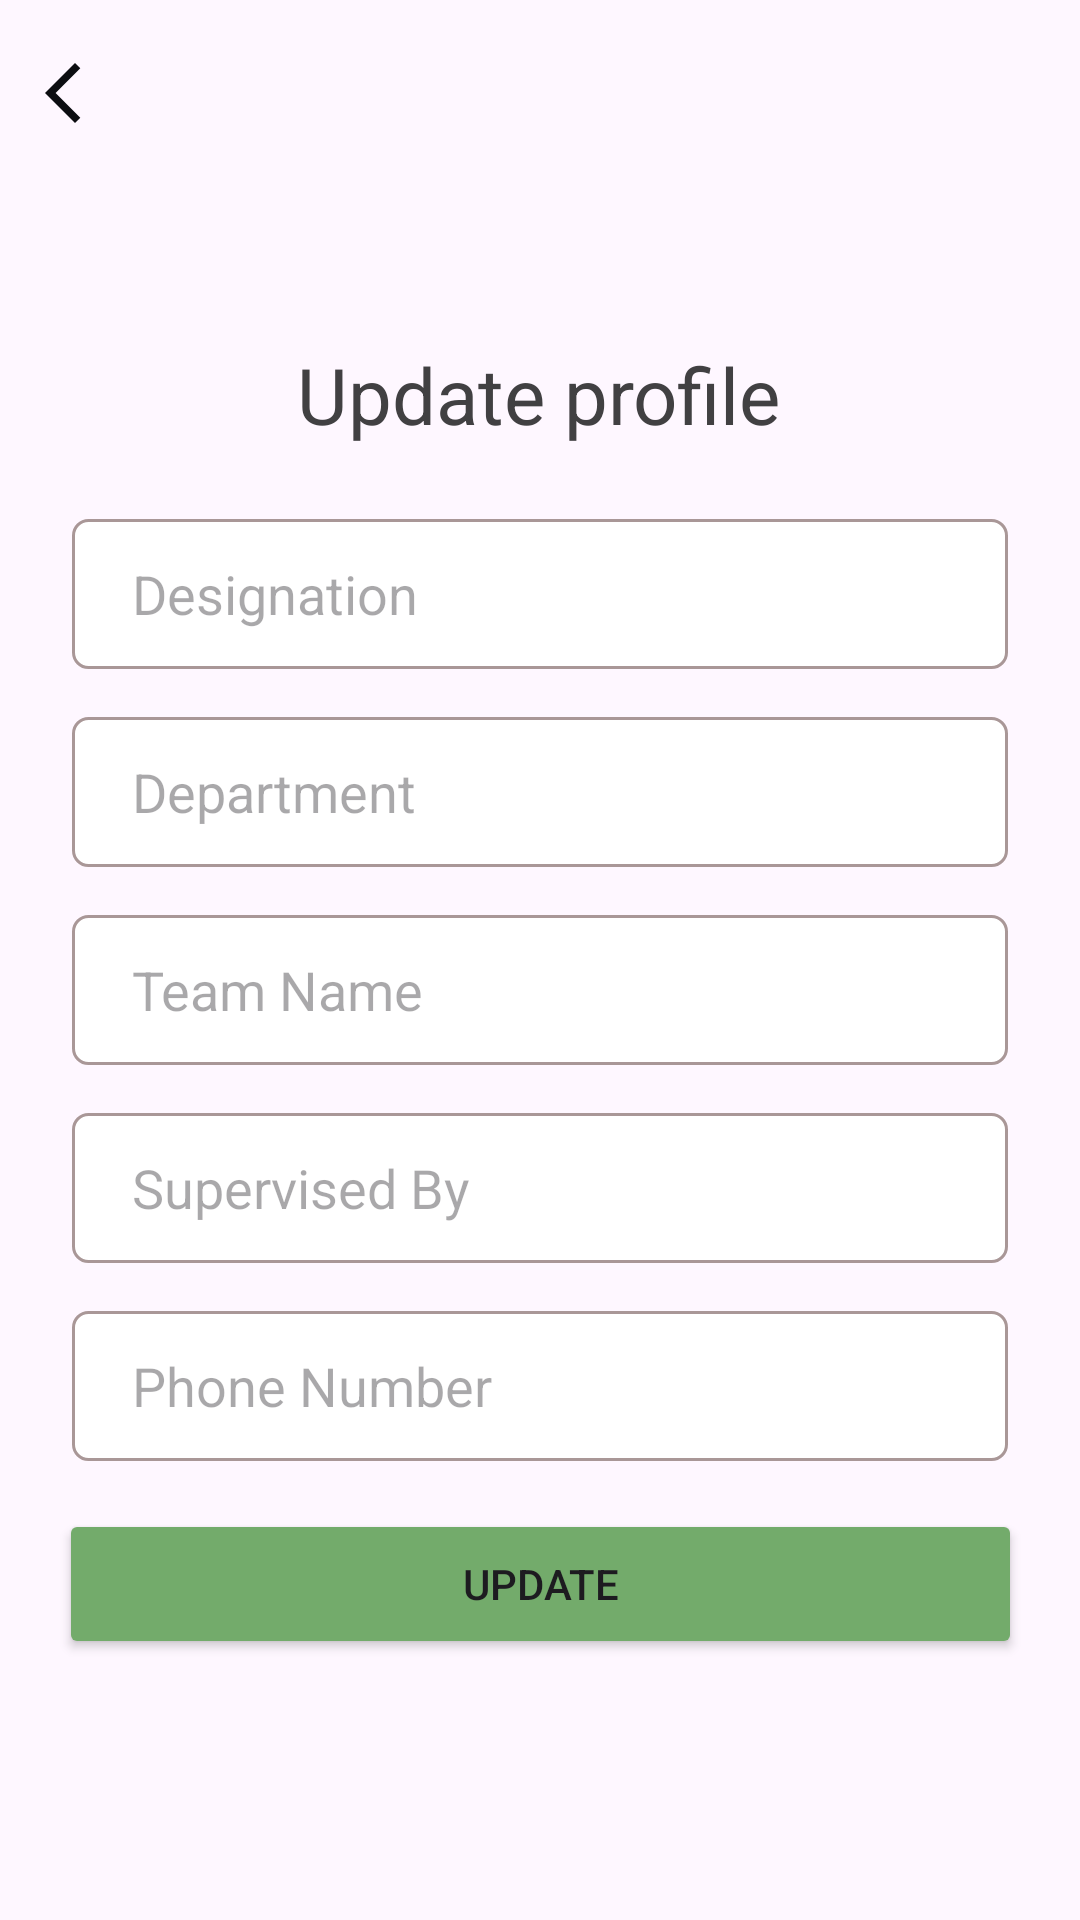

Where to tap for icons on this 1080×1920 app screen, as point (x, y):
arrow back: point (62, 93)
